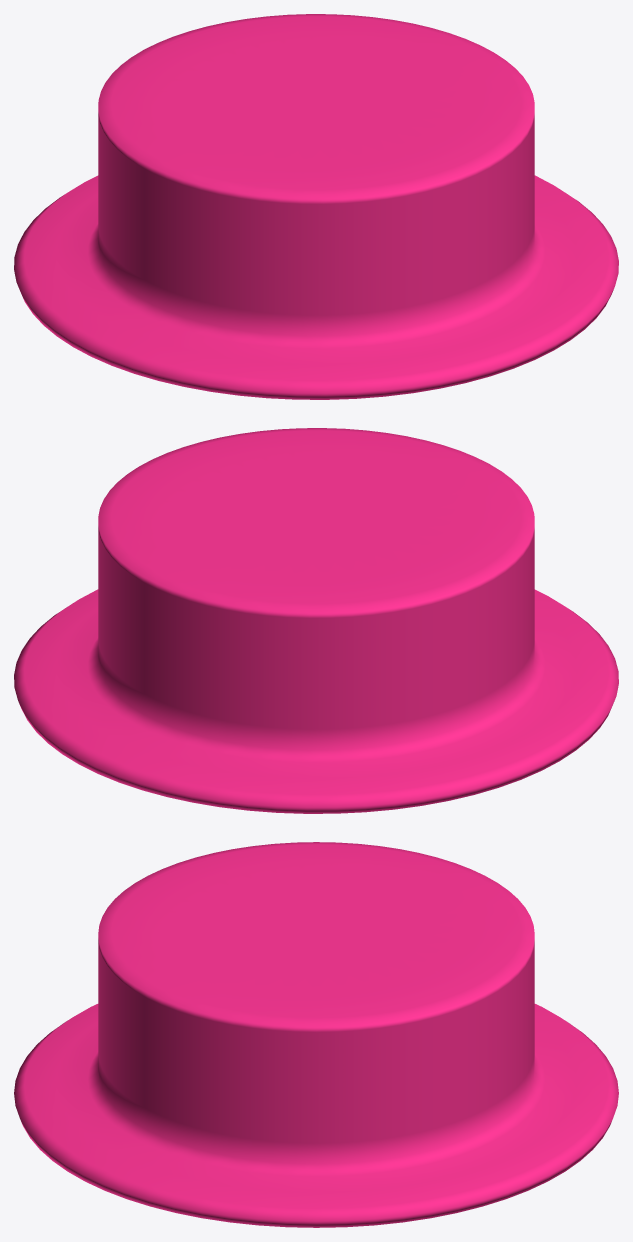
File: blsmpht2.dae
3 views of the same model, one above another, from view 1: azimuth 30°, elevation 25°; view 2: azimuth 150°, elevation 25°; view 3: azimuth 270°, elevation 25° (orthographic).
Visible parts, largest first — view 1: Cylinder; view 2: Cylinder; view 3: Cylinder.
Boxes of the visible parts, x1=… form: Cylinder: x1=14, y1=14, x2=618, y2=399; Cylinder: x1=14, y1=428, x2=618, y2=813; Cylinder: x1=14, y1=842, x2=618, y2=1227.
Size of the model in its own units: 5.8 by 1.84 by 5.8.
